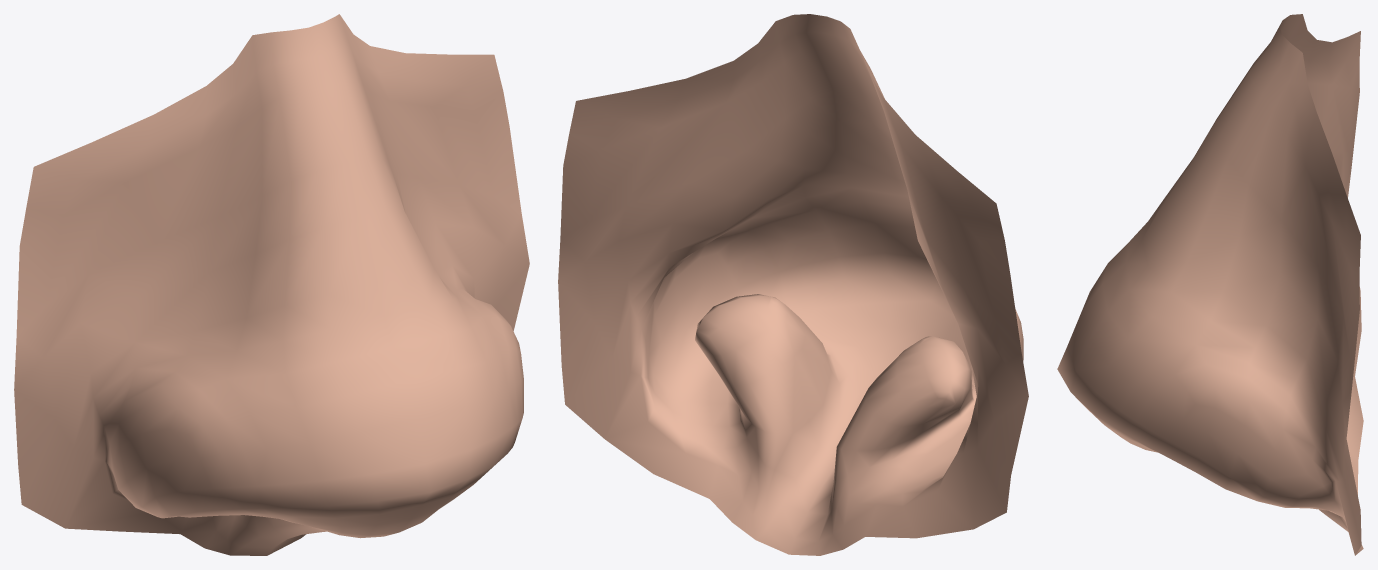
File: Nose 01.glb
3 views of the same model, side by side, from view 1: azimuth 30°, elevation 25°; view 2: azimuth 150°, elevation 25°; view 3: azimuth 270°, elevation 25° (orthographic). The views are drawn at different scales.
Parts seen in each view (by area): view 1: Nose01; view 2: Nose01; view 3: Nose01.
Part boxes in pixels (left/top/right/bottom): Nose01: left=14, top=14, right=529, bottom=555; Nose01: left=558, top=14, right=1028, bottom=555; Nose01: left=1057, top=14, right=1363, bottom=555.
Bounding box in the file's own units: 0.000983 × 0.00102 × 0.000556.
